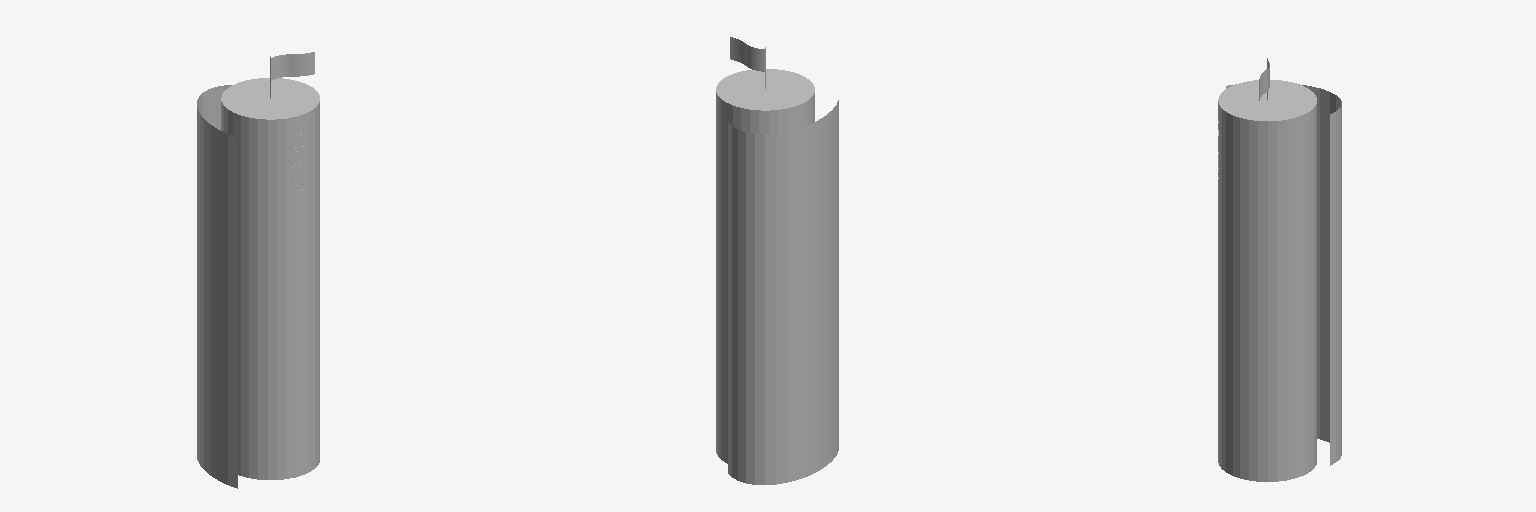
Rendered from Sugar City Building 1With King.obj.
The picture shows the model from 3 angles: view 1: azimuth 30°, elevation 25°; view 2: azimuth 150°, elevation 25°; view 3: azimuth 270°, elevation 25°; orthographic projection.
Parts seen in each view (by area): view 1: MainBuilding, GlassWall, Flag, MainBuildingBase; view 2: GlassWall, MainBuilding, Flag; view 3: MainBuilding, GlassWall, MainBuildingBase.
Part boxes in pixels (x1,y1,x2,y2): MainBuilding: (221, 78, 319, 469); GlassWall: (197, 85, 237, 488); Flag: (271, 52, 314, 80); MainBuildingBase: (238, 452, 319, 479); GlassWall: (728, 100, 838, 484); MainBuilding: (716, 69, 814, 452); Flag: (730, 37, 764, 71); MainBuilding: (1218, 80, 1316, 470); GlassWall: (1226, 84, 1341, 465); MainBuildingBase: (1218, 452, 1316, 481).
Size of the model in its own units: 0.6 by 2.25 by 0.6261.